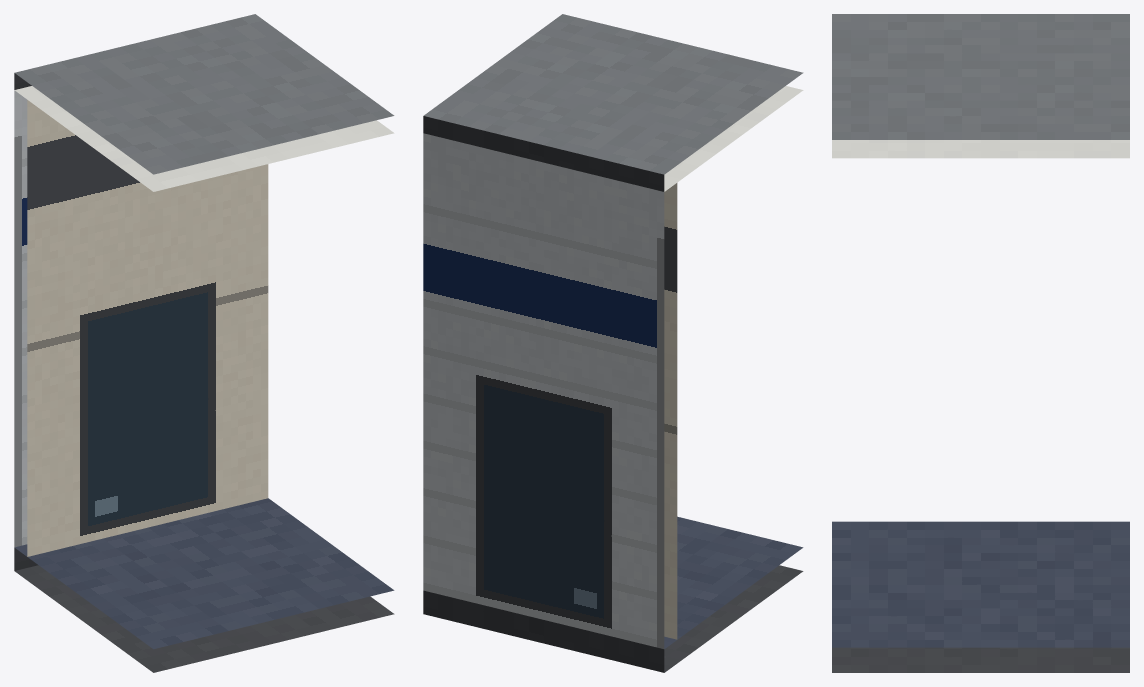
The model's file is airport_jet_bridge_corner_c2.obj.
3 views of the same model, side by side, from view 1: azimuth 30°, elevation 25°; view 2: azimuth 150°, elevation 25°; view 3: azimuth 270°, elevation 25° (orthographic). The views are drawn at different scales.
Parts seen in each view (by area): view 1: airport_jet_bridge_corner_c2; view 2: airport_jet_bridge_corner_c2; view 3: airport_jet_bridge_corner_c2.
Boxes of the visible parts, bbox=[...] form: airport_jet_bridge_corner_c2: bbox=[14, 14, 394, 672]; airport_jet_bridge_corner_c2: bbox=[423, 14, 803, 672]; airport_jet_bridge_corner_c2: bbox=[832, 14, 1129, 672].
Size of the model in its own units: 1 by 1.98 by 1.
